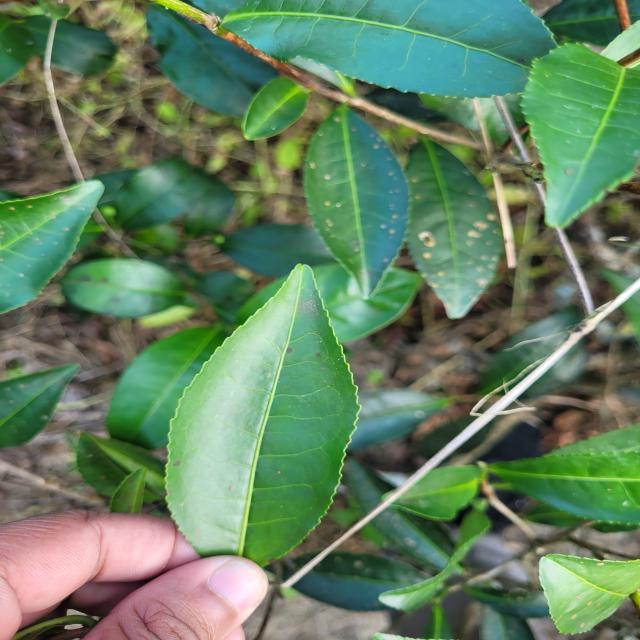Category D(7+ days, Not for Tea): (153, 250, 370, 576)
